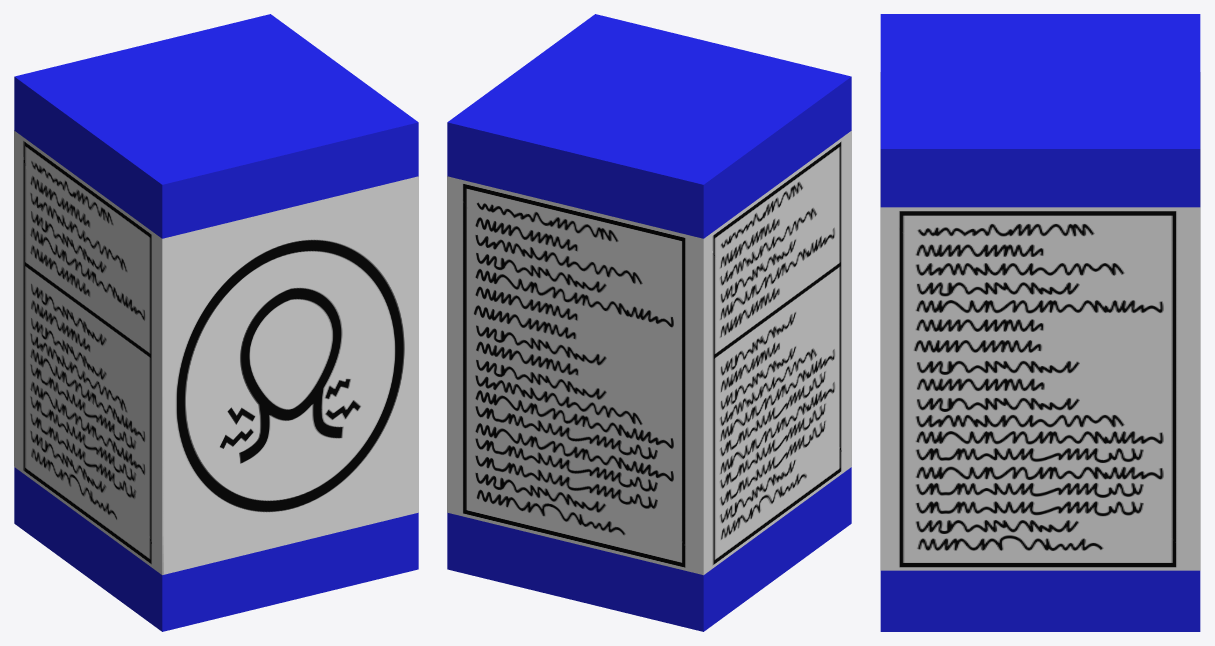
The model's file is throatSootheOTC.fbx.
3 views of the same model, side by side, from view 1: azimuth 30°, elevation 25°; view 2: azimuth 150°, elevation 25°; view 3: azimuth 270°, elevation 25° (orthographic). The views are drawn at different scales.
Parts seen in each view (by area): view 1: throatSootheLabel, coldFluBox; view 2: throatSootheLabel, coldFluBox; view 3: throatSootheLabel, coldFluBox.
Part boxes in pixels (box(x1,y1,x2,y2)): throatSootheLabel: box(14, 130, 418, 574); coldFluBox: box(14, 14, 418, 631); throatSootheLabel: box(447, 130, 851, 575); coldFluBox: box(447, 14, 851, 631); throatSootheLabel: box(880, 72, 1200, 570); coldFluBox: box(880, 14, 1200, 631).
Bounding box in the file's own units: 12.01 × 20 × 12.01.
